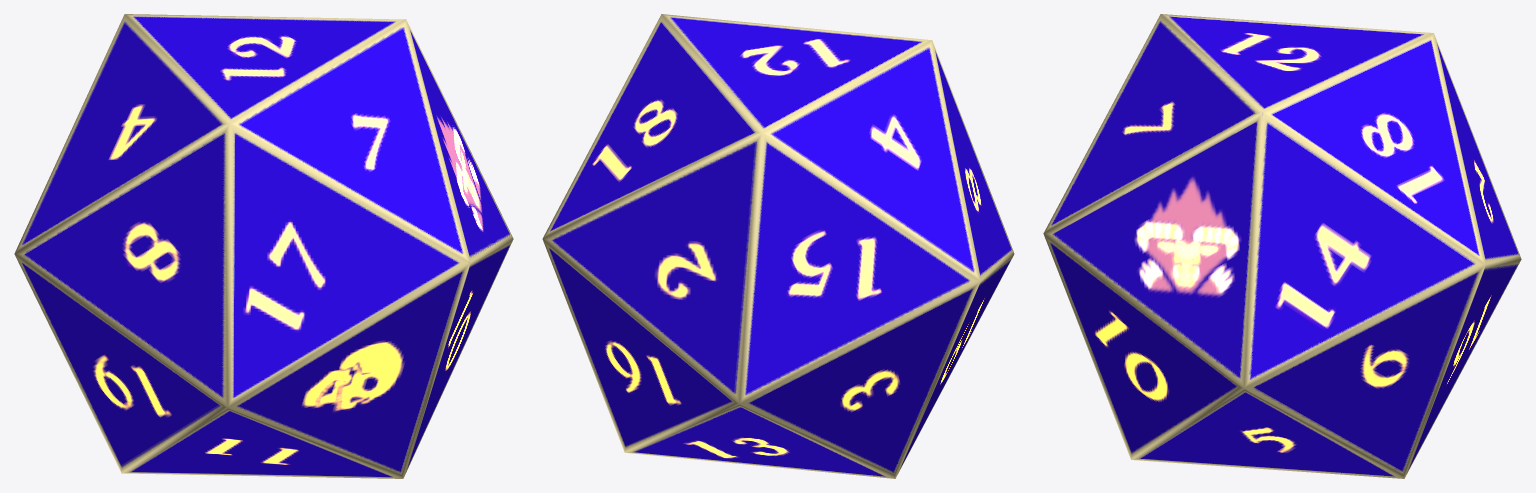
3 views of the same model, side by side, from view 1: azimuth 30°, elevation 25°; view 2: azimuth 150°, elevation 25°; view 3: azimuth 270°, elevation 25° (orthographic). The views are drawn at different scales.
Parts seen in each view (by area): view 1: d20_bake; view 2: d20_bake; view 3: d20_bake.
Part boxes in pixels (x1,y1,x2,y2): d20_bake: (14, 14, 513, 478); d20_bake: (542, 14, 1014, 478); d20_bake: (1043, 14, 1521, 478).
Bounding box in the file's own units: 0.0538 × 0.0452 × 0.05.
Materials: 1 (1 with a texture image).
